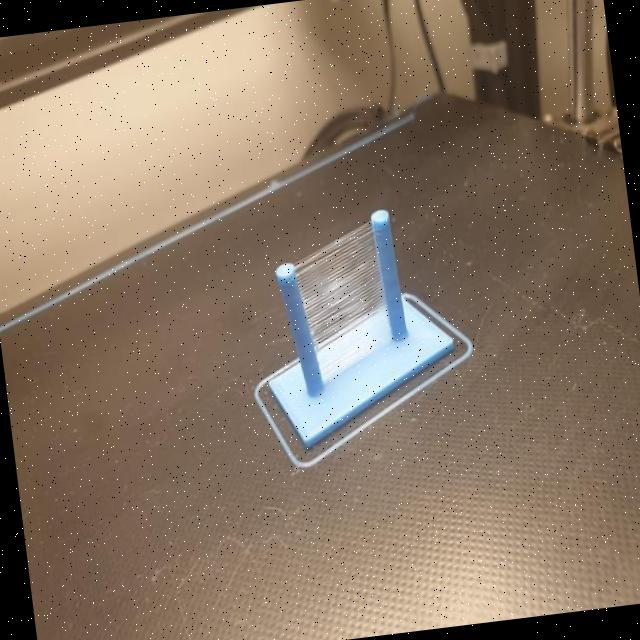stringing: (290, 212, 394, 386)
